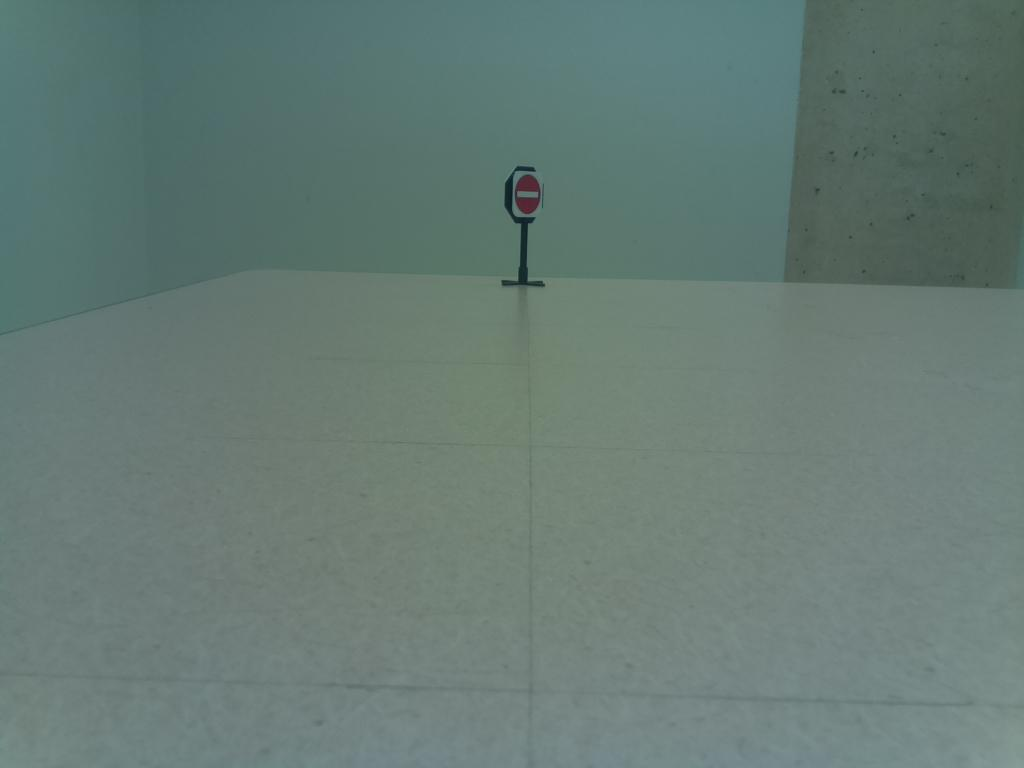sign_noentry: (499, 159, 552, 229)
